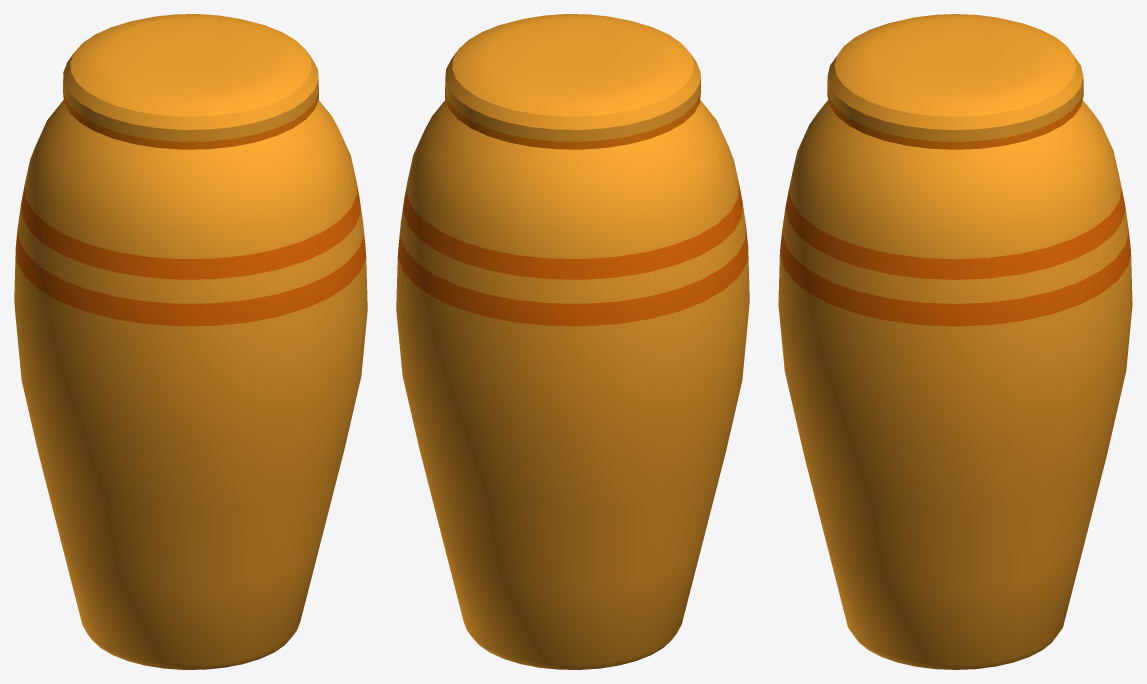
File: funeral_urn.glb
3 renders of one model, left to right at view 1: azimuth 30°, elevation 25°; view 2: azimuth 150°, elevation 25°; view 3: azimuth 270°, elevation 25°, orthographic.
Visible parts, largest first — view 1: Circle.2611; view 2: Circle.2611; view 3: Circle.2611.
Part boxes in pixels (<box>): Circle.2611: <box>14,14,367,669</box>; Circle.2611: <box>396,14,749,669</box>; Circle.2611: <box>778,14,1132,669</box>.
Size of the model in its own units: 1.25 by 2.23 by 1.25.
1 material, 1 textured.
